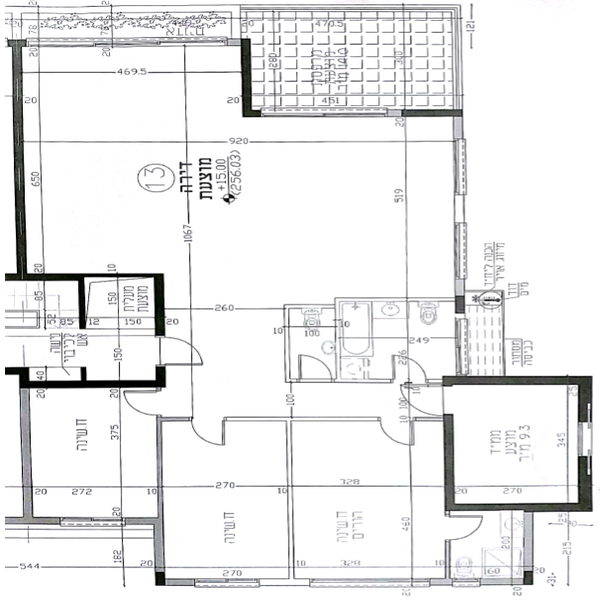door: (393, 380, 453, 419), (377, 414, 423, 461), (390, 346, 432, 391), (155, 334, 207, 369), (442, 514, 489, 552), (296, 348, 337, 388), (189, 412, 233, 448), (123, 385, 164, 418)
room: (156, 103, 467, 386), (10, 34, 257, 285), (277, 405, 464, 590), (146, 408, 307, 594), (11, 368, 167, 534), (439, 368, 600, 519), (9, 267, 173, 391)
wall: (12, 38, 27, 273), (152, 414, 171, 585), (18, 384, 41, 524), (445, 371, 593, 387), (286, 420, 300, 585), (445, 502, 599, 516), (438, 411, 457, 506), (15, 379, 160, 390), (277, 305, 296, 387), (226, 415, 380, 424), (336, 297, 460, 308), (18, 271, 164, 280), (242, 33, 257, 118), (525, 514, 543, 584), (577, 456, 596, 509), (76, 272, 92, 328), (402, 105, 462, 119), (157, 272, 167, 332), (262, 577, 311, 589), (579, 374, 591, 421), (454, 283, 467, 323), (440, 546, 452, 588), (1, 363, 30, 375), (456, 196, 465, 226), (154, 370, 166, 384)
window: (30, 34, 226, 50), (265, 103, 405, 120), (197, 573, 264, 589), (455, 319, 472, 371), (579, 424, 593, 457)
